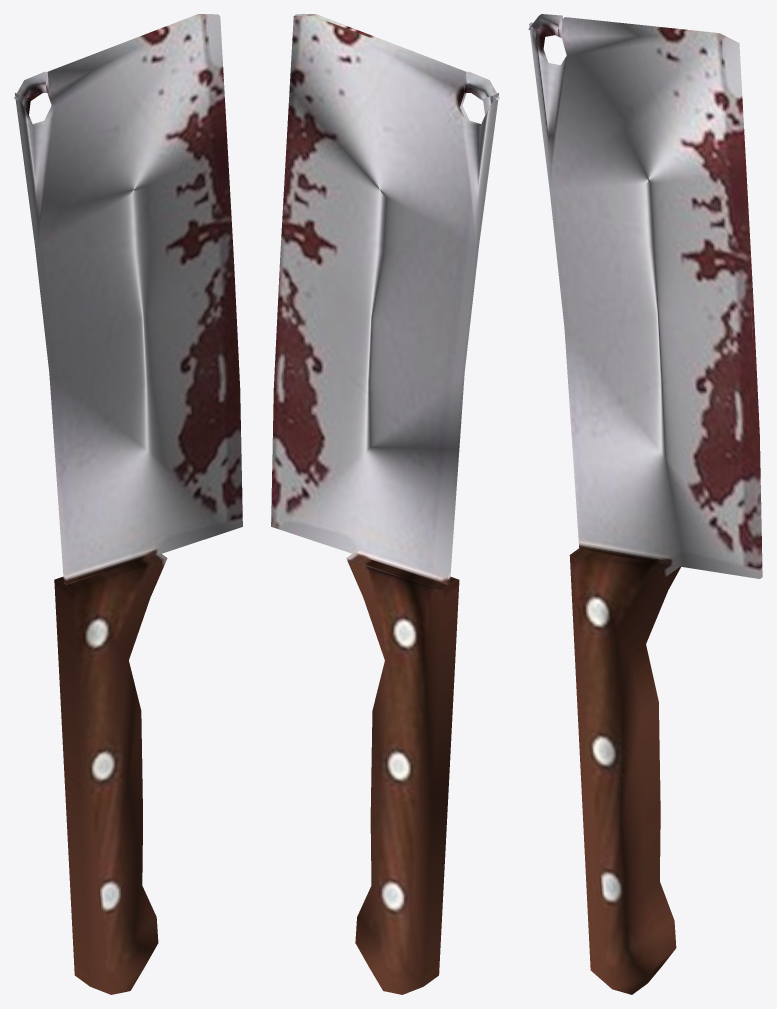
Rendered from cleaver.glb.
The picture shows the model from 3 angles, left to right: view 1: azimuth 30°, elevation 25°; view 2: azimuth 150°, elevation 25°; view 3: azimuth 330°, elevation 25°; orthographic projection. The views are drawn at different scales.
Visible parts, largest first — view 1: gun_dildo1; view 2: gun_dildo1; view 3: gun_dildo1.
Part boxes in pixels (x1,y1,x2,y2): gun_dildo1: (14,14,242,994); gun_dildo1: (271,14,499,994); gun_dildo1: (528,14,762,994).
Size of the model in its own units: 0.1336 by 0.5369 by 0.0158.
1 material, 1 textured.
